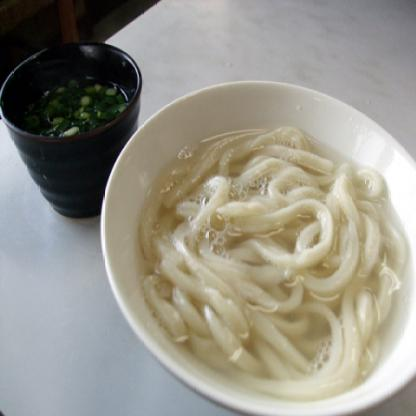Noodles: (139, 123, 411, 402)
